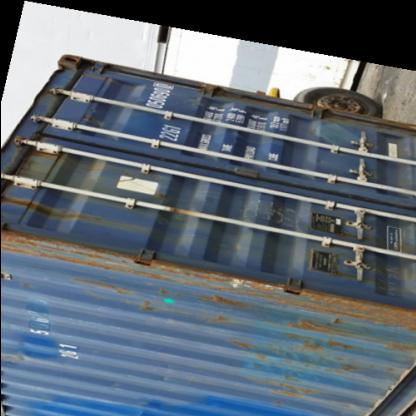Damage: (1, 224, 148, 303), (146, 256, 288, 330), (278, 284, 406, 358), (213, 320, 283, 380), (269, 360, 350, 411)
